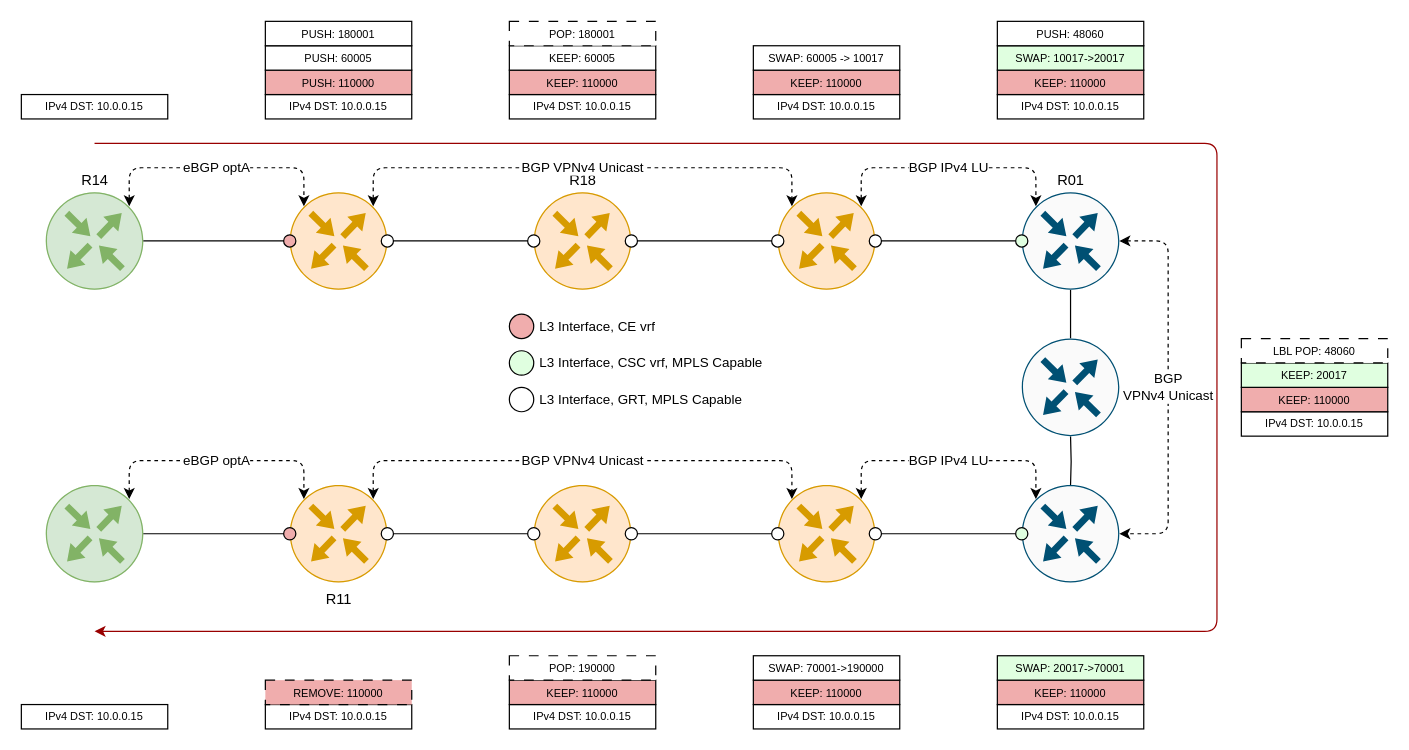
Image size: 1409x750. Some labels were removed from this diagram. Here are the shapes that lost their labels. From the top down, the centre of each, then its label:
At (338,240): "R10".
At (826,240): "R06".
At (1070,386): "R05".
At (94,533): "R15".
At (582,533): "R19".
At (826,533): "R07".
At (1070,533): "R02".
